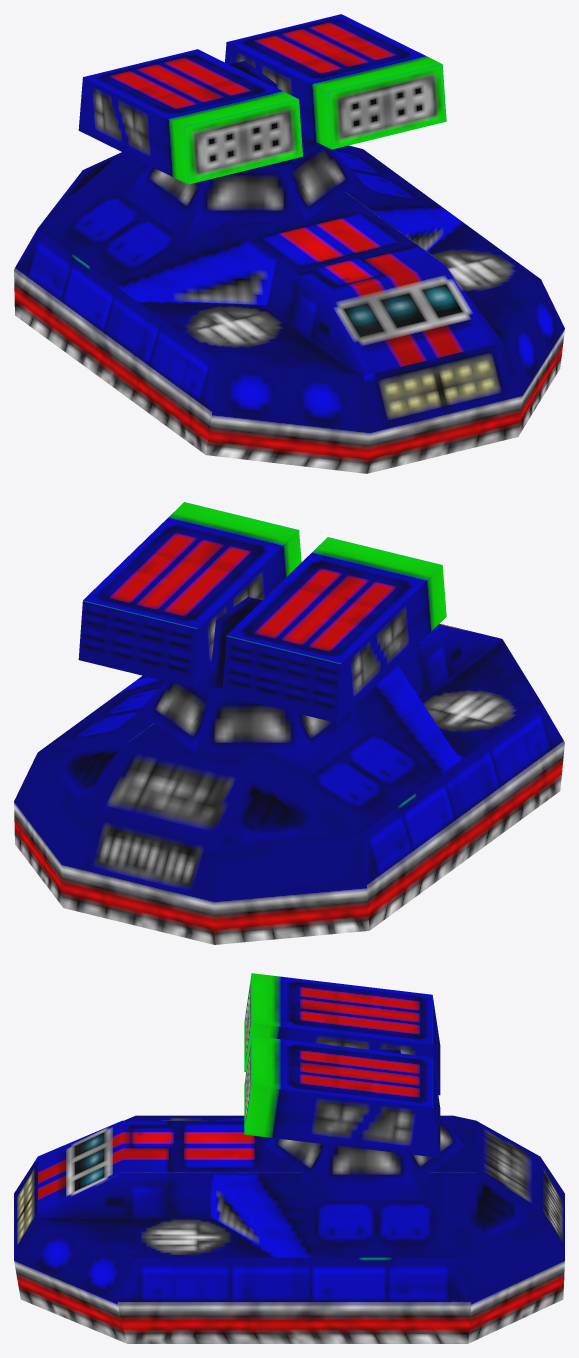
The model's file is drillson.glb.
3 renders of one model, top to bottom at view 1: azimuth 30°, elevation 25°; view 2: azimuth 150°, elevation 25°; view 3: azimuth 270°, elevation 25°, orthographic. The views are drawn at different scales.
Visible parts, largest first — view 1: LRMHover, TF_Missilepods; view 2: LRMHover, TF_Missilepods, TF_Turret; view 3: LRMHover, TF_Missilepods.
Part boxes in pixels (x1,y1,x2,y2): LRMHover: (14, 135, 564, 473); TF_Missilepods: (78, 14, 446, 184); LRMHover: (14, 623, 564, 944); TF_Missilepods: (78, 502, 446, 722); TF_Turret: (204, 597, 261, 688); LRMHover: (14, 1115, 564, 1343); TF_Missilepods: (244, 973, 440, 1157).
Bounding box in the file's own units: 5.09 × 3.64 × 7.67.
1 material, 1 textured.
